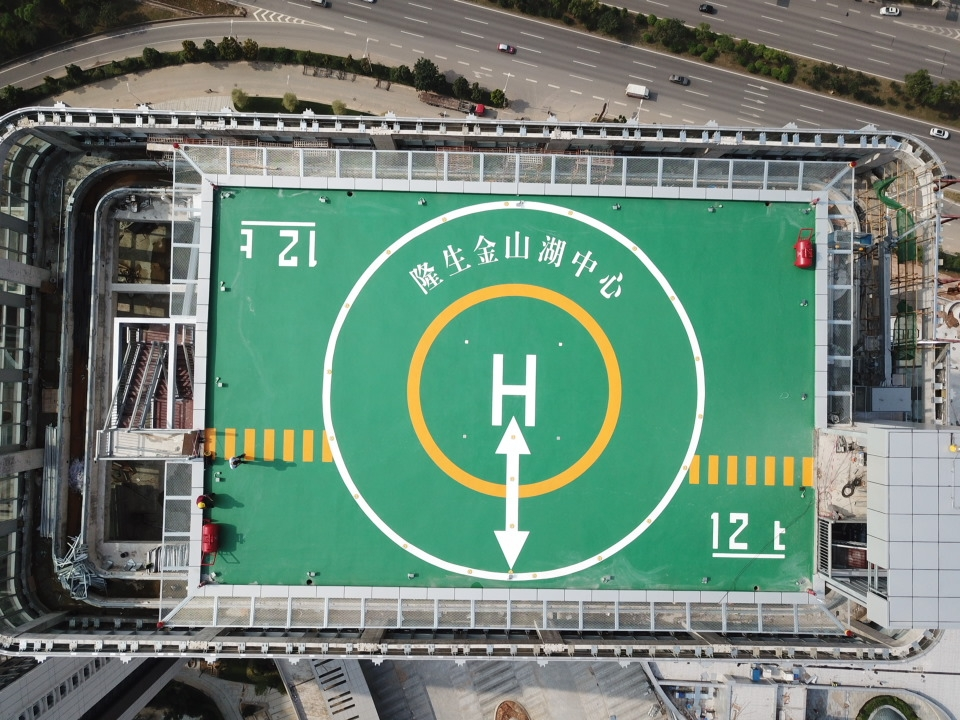H: (490, 353, 537, 426)
